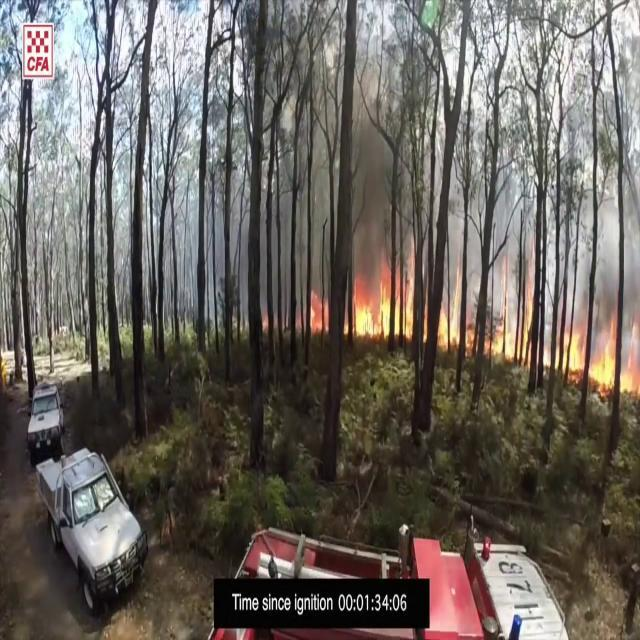Fire: (344, 235, 421, 348), (568, 300, 640, 406)
Smoke: (263, 75, 431, 288)
